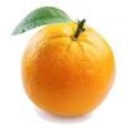orange: (19, 14, 120, 118)
